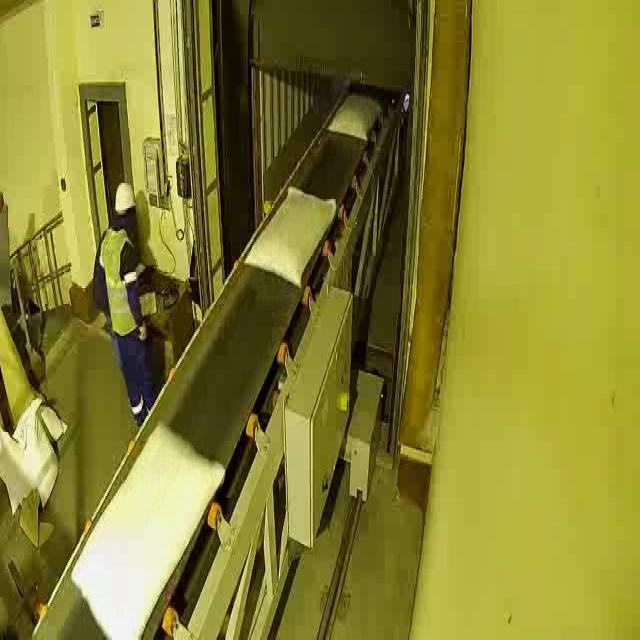bag: (69, 418, 226, 634), (243, 181, 338, 290), (328, 95, 384, 141)
